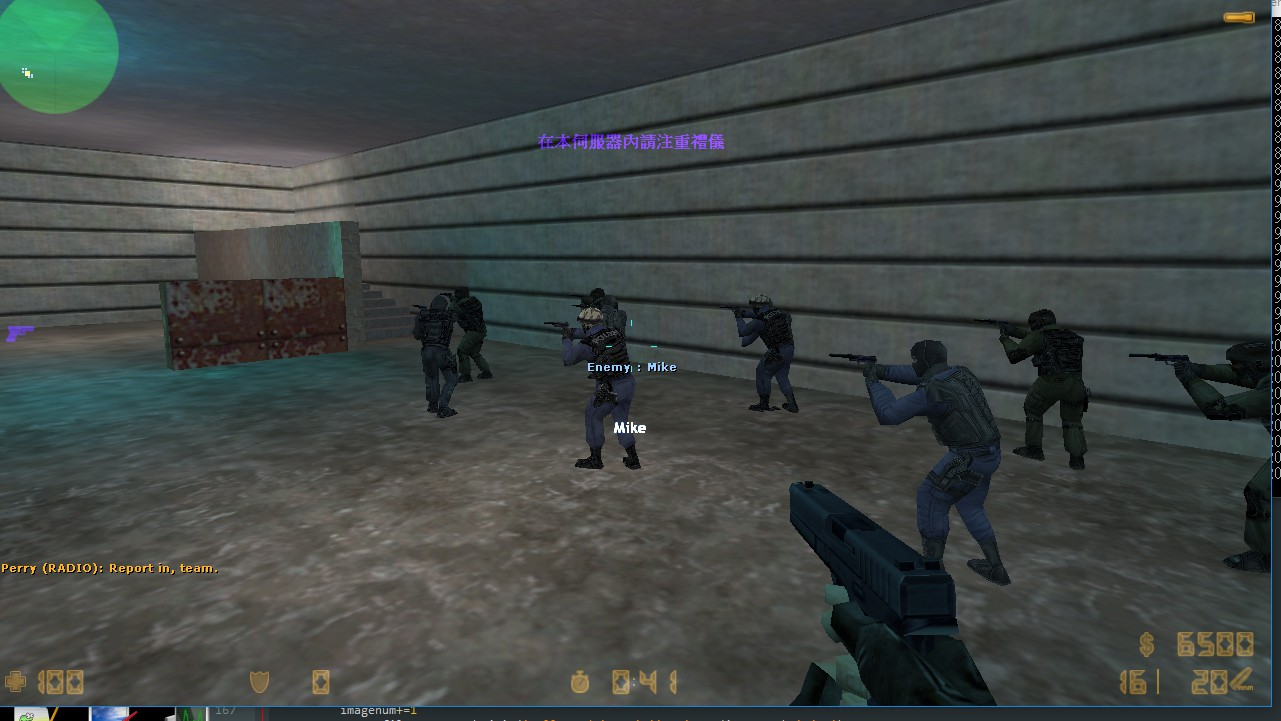person: (834, 322, 1009, 587), (1187, 317, 1269, 568), (544, 305, 648, 480), (1005, 295, 1093, 470), (725, 288, 810, 422), (414, 291, 461, 422)
